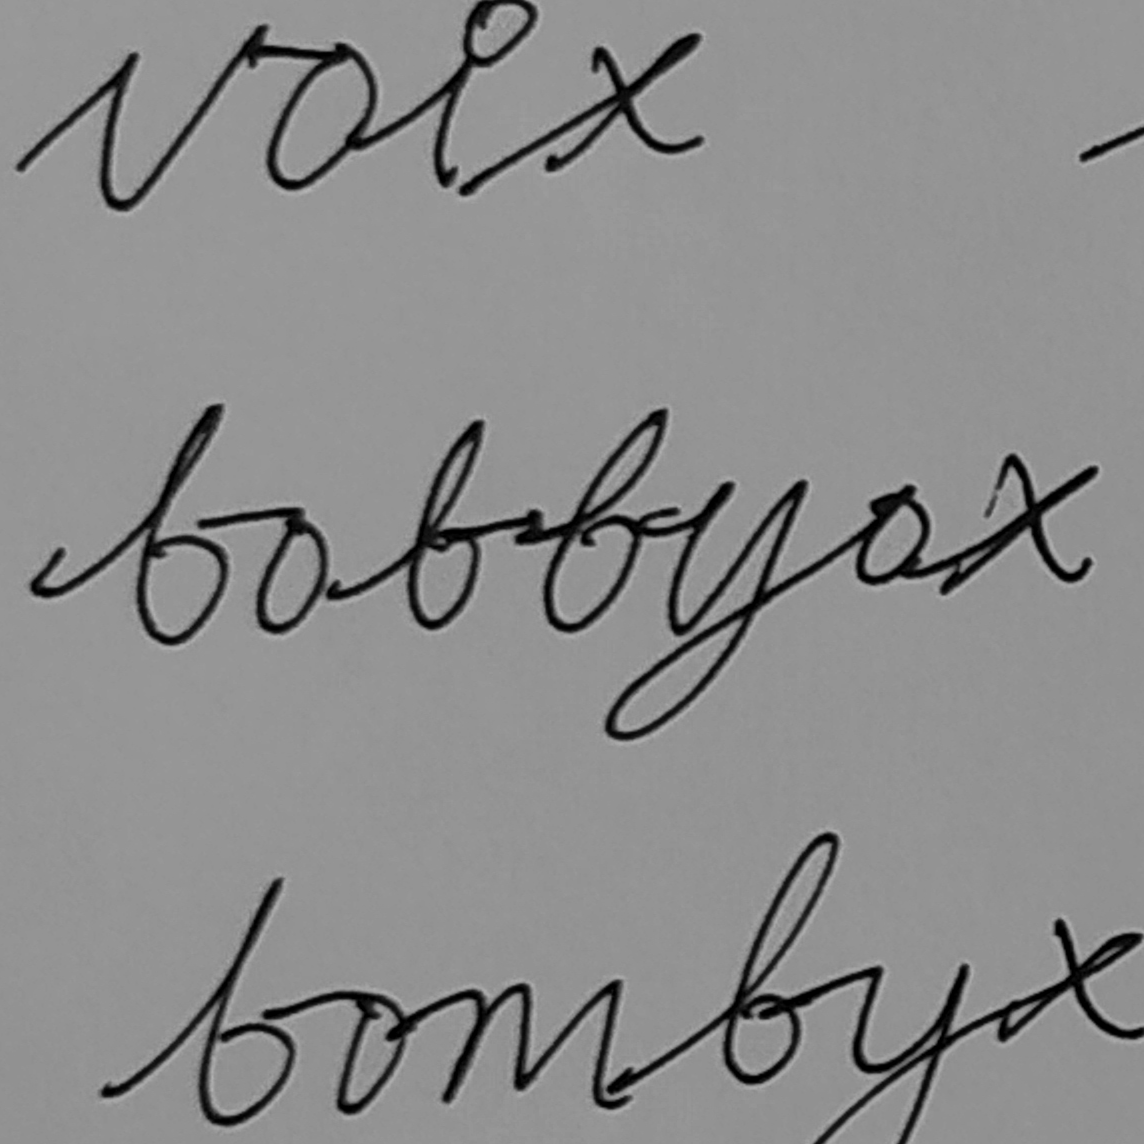b: (537, 403, 672, 635), (129, 400, 234, 648), (401, 412, 490, 639)
o: (250, 503, 336, 643), (851, 477, 934, 588)
x: (950, 450, 1099, 586)
y: (596, 475, 816, 743)
